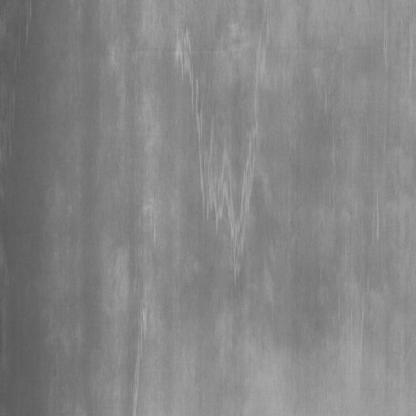silk_spot: (170, 26, 266, 288)
